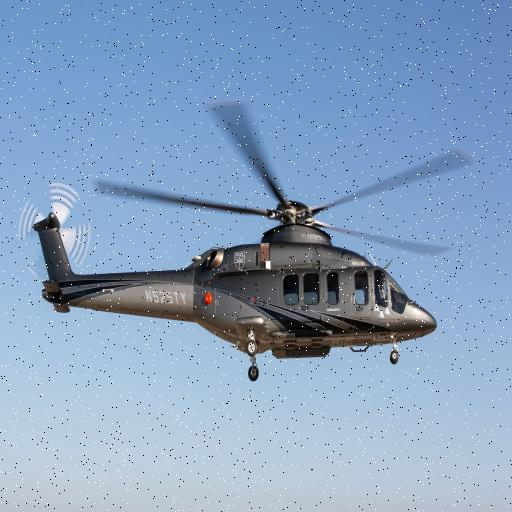helicopter: (19, 98, 481, 381)
